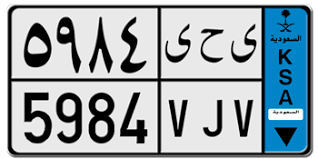4: (119, 16, 149, 144)
5: (22, 21, 53, 144)
8: (87, 15, 115, 145)
9: (55, 16, 84, 145)
J: (199, 28, 224, 137)
V: (164, 23, 192, 138), (230, 23, 257, 138)
